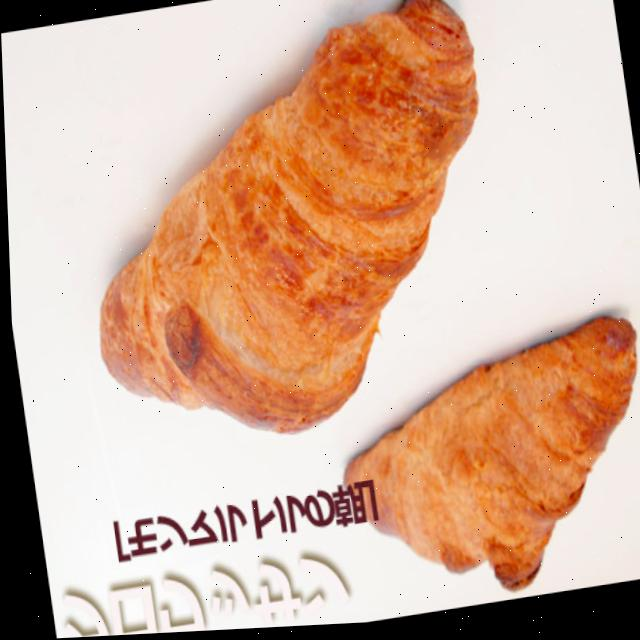面包点心: (39, 93, 447, 513)
